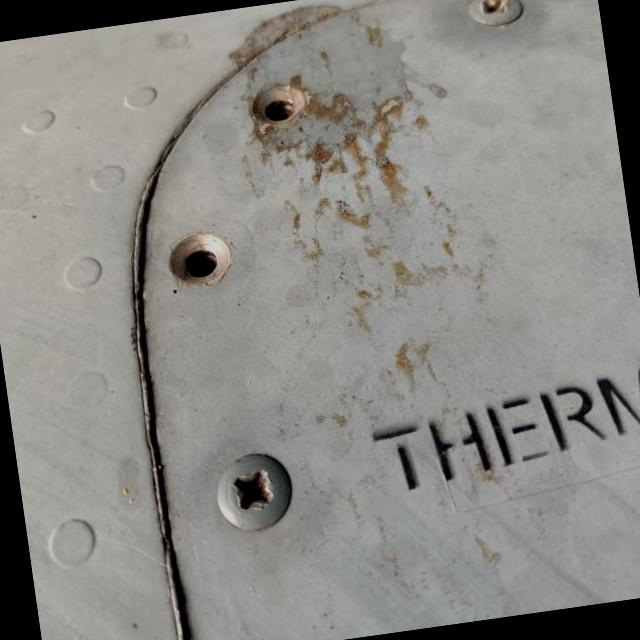Missing Fastener: (243, 69, 323, 143), (162, 226, 242, 294)
